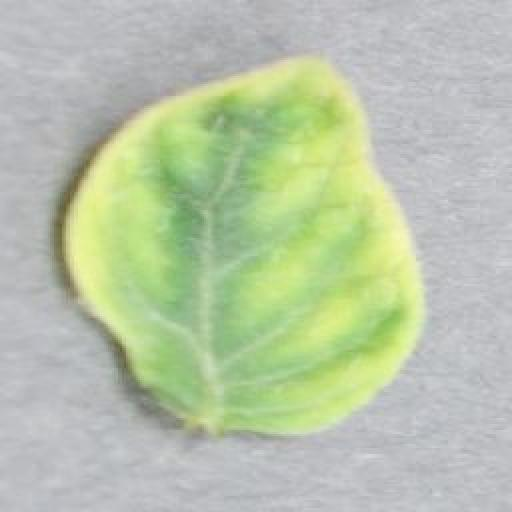disease_tomato: (60, 52, 426, 438)
